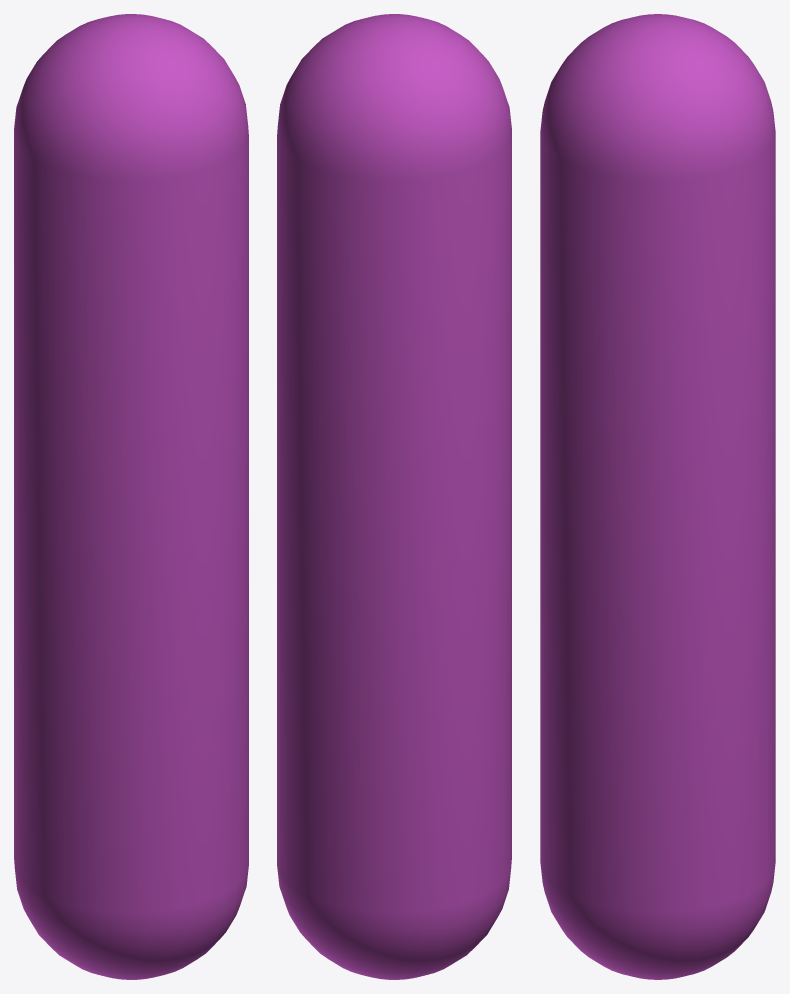
Rendered from inverted_pendulum.obj.
3 renders of one model, left to right at view 1: azimuth 30°, elevation 25°; view 2: azimuth 150°, elevation 25°; view 3: azimuth 270°, elevation 25°, orthographic.
Visible parts, largest first — view 1: Sphere; view 2: Sphere; view 3: Sphere.
Part boxes in pixels (bbox=[...]): Sphere: bbox=[14, 14, 248, 979]; Sphere: bbox=[277, 14, 511, 979]; Sphere: bbox=[540, 14, 775, 979].
Bounding box in the file's own units: 2 × 8.86 × 2.
Materials: 1 (1 with a texture image).
